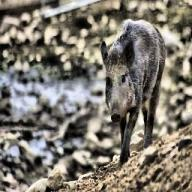boar: (100, 18, 167, 164)
